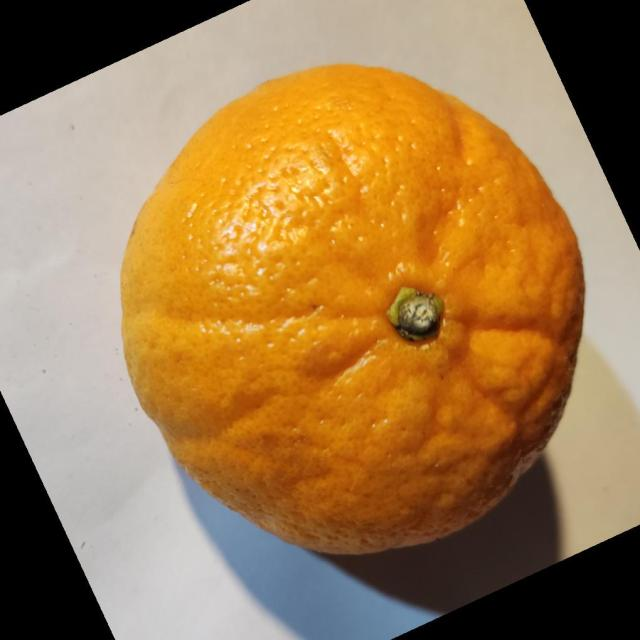fresh orange: (119, 61, 586, 556)
